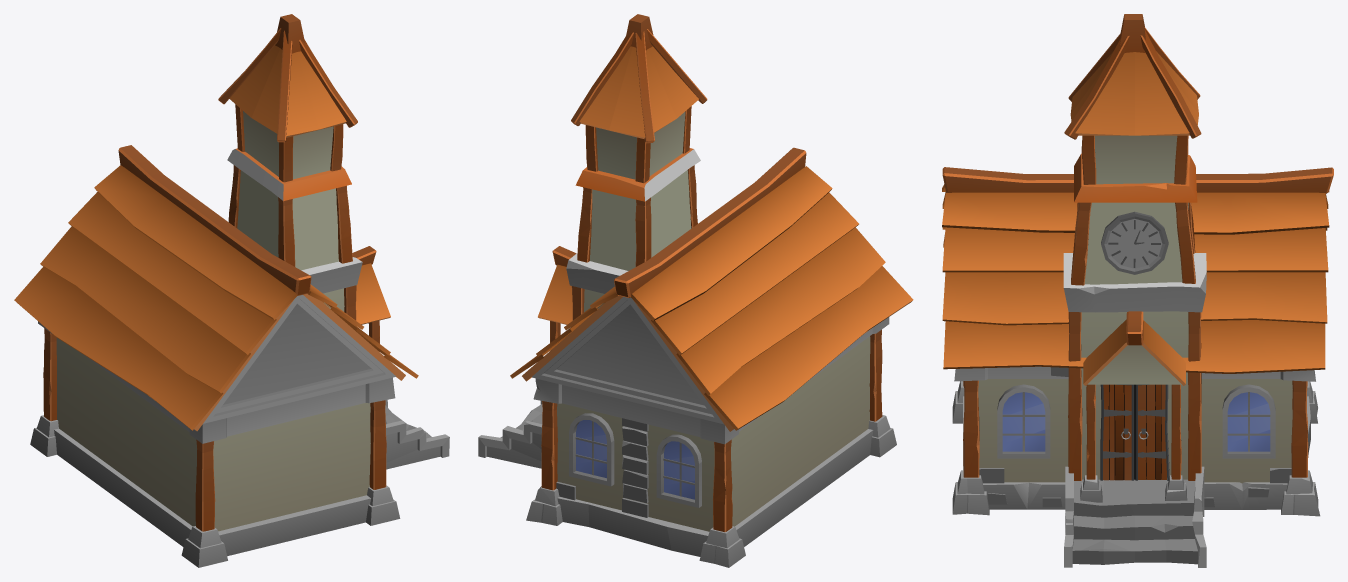
The model's file is townhall_01.fbx.
3 renders of one model, left to right at view 1: azimuth 30°, elevation 25°; view 2: azimuth 150°, elevation 25°; view 3: azimuth 270°, elevation 25°, orthographic. The views are drawn at different scales.
Visible parts, largest first — view 1: Object008.007; view 2: Object008.007; view 3: Object008.007.
Boxes of the visible parts, bbox=[...] form: Object008.007: bbox=[14, 14, 449, 567]; Object008.007: bbox=[478, 14, 913, 567]; Object008.007: bbox=[942, 14, 1333, 567].
Size of the model in its own units: 11.54 by 15.48 by 11.33.
